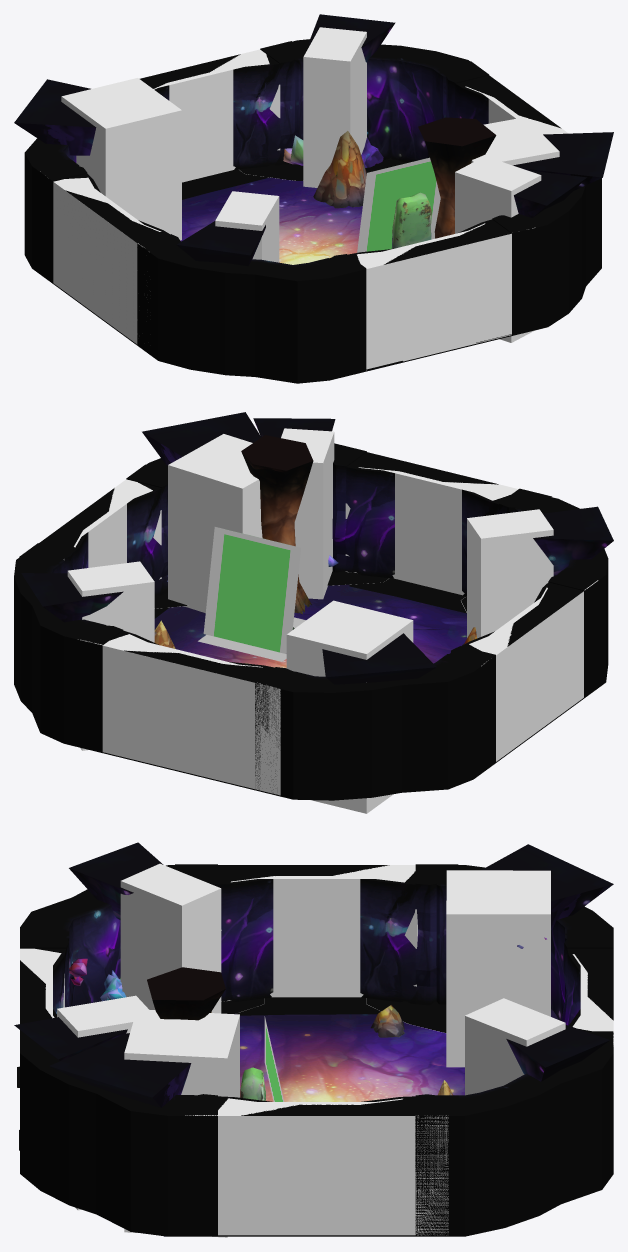
File: Dungeon_101_StartRoom_001_003.fbx
3 renders of one model, top to bottom at view 1: azimuth 30°, elevation 25°; view 2: azimuth 150°, elevation 25°; view 3: azimuth 270°, elevation 25°, orthographic. The views are drawn at different scales.
Visible parts, largest first — view 1: Dun_101_StartRoom_002_wall, DoorWay_NavMask (1) (×4), Dun_101_Door_002 (×4), Dun_101_StartRoom_002, Cube_01, Cube_03, Dun_101_StartRoom_002_ground, Light, Cube_04, Dungeon_011_Object_010, Cube_05, Cube_02 (+5 smaller); view 2: Dun_101_StartRoom_002_wall, DoorWay_NavMask (1) (×4), Dun_101_Door_002 (×4), Dun_101_StartRoom_002, Cube_02, Light, Cube_05, Dun_101_StartRoom_002_ground, Cube_01, Cube_04, Dungeon_011_Object_010, Cube_03 (+3 smaller); view 3: Dun_101_StartRoom_002_wall, DoorWay_NavMask (1) (×4), Dun_101_Door_002 (×4), Dun_101_StartRoom_002, Dun_101_StartRoom_002_ground, Cube_01, Cube_05, Cube_02, Cube_03, Dungeon_011_Object_010, Cube_04, Dun_011_Door_002_shadow (+5 smaller).
Part boxes in pixels (x1,y1,x2,y2): Dun_101_StartRoom_002_wall: [24, 39, 601, 383]; DoorWay_NavMask (1) (×4): [40, 49, 568, 370]; Dun_101_Door_002 (×4): [35, 41, 561, 371]; Dun_101_StartRoom_002: [14, 14, 613, 265]; Cube_01: [61, 78, 181, 240]; Cube_03: [303, 27, 366, 187]; Dun_101_StartRoom_002_ground: [180, 177, 362, 264]; Light: [357, 157, 440, 252]; Cube_04: [455, 156, 541, 342]; Dungeon_011_Object_010: [418, 117, 496, 238]; Cube_05: [215, 191, 279, 262]; Cube_02: [471, 117, 559, 165]; Dun_101_StartRoom_002_wall: [14, 458, 608, 800]; DoorWay_NavMask (1) (×4): [78, 470, 598, 795]; Dun_101_Door_002 (×4): [19, 443, 602, 790]; Dun_101_StartRoom_002: [21, 412, 613, 684]; Cube_02: [168, 434, 262, 612]; Light: [203, 527, 301, 653]; Cube_05: [467, 509, 553, 638]; Dun_101_StartRoom_002_ground: [154, 584, 466, 668]; Cube_01: [286, 600, 413, 813]; Cube_04: [281, 428, 334, 599]; Dungeon_011_Object_010: [241, 435, 313, 614]; Cube_03: [67, 561, 154, 750]; Dun_101_StartRoom_002_wall: [20, 865, 613, 1236]; DoorWay_NavMask (1) (×4): [20, 865, 613, 1235]; Dun_101_Door_002 (×4): [20, 864, 613, 1236]; Dun_101_StartRoom_002: [14, 842, 613, 1107]; Dun_101_StartRoom_002_ground: [164, 1013, 464, 1236]; Cube_01: [446, 870, 550, 1067]; Cube_05: [120, 863, 221, 1013]; Cube_02: [124, 1009, 239, 1237]; Cube_03: [465, 998, 565, 1095]; Dungeon_011_Object_010: [147, 967, 225, 1020]; Cube_04: [57, 995, 155, 1210]; Dun_011_Door_002_shadow: [236, 997, 380, 1015].
Size of what is drawn, in the model's own units: 9.27 by 3.4 by 9.1.
